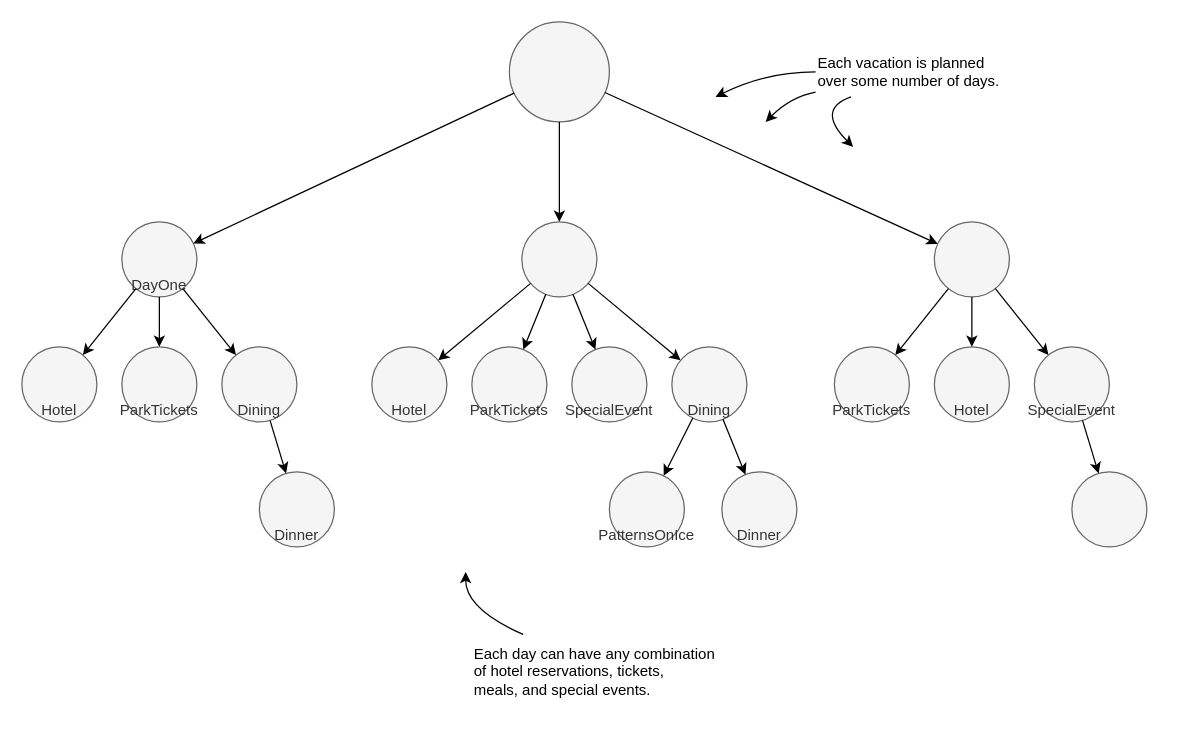
The diagram is 1190 pixels wide and 731 high, and some of its shapes have lost their labels. Each missing label, with the centre of its shape:
"CirqueDuPatterns" belongs at (1109,509).
"DayThree" belongs at (971,259).
"DayTwo" belongs at (559,259).
"Vacation" belongs at (558,71).
